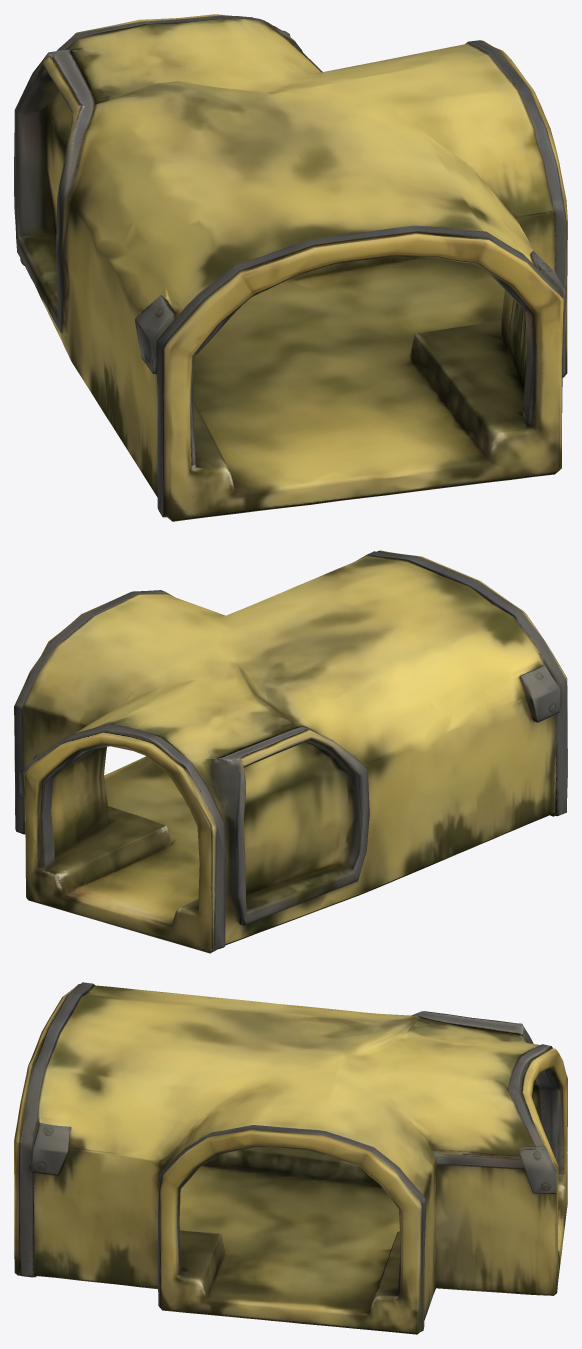
Rendered from tripo_convert_259a5023-aace-451d-a74d-93684883f777.glb.
3 renders of one model, top to bottom at view 1: azimuth 30°, elevation 25°; view 2: azimuth 150°, elevation 25°; view 3: azimuth 270°, elevation 25°, orthographic. The views are drawn at different scales.
Parts seen in each view (by area): view 1: tripo_node_259a5023-aace-451d-a74d-93684883f777; view 2: tripo_node_259a5023-aace-451d-a74d-93684883f777; view 3: tripo_node_259a5023-aace-451d-a74d-93684883f777.
Boxes of the visible parts, x1=… form: tripo_node_259a5023-aace-451d-a74d-93684883f777: x1=14, y1=14, x2=567, y2=521; tripo_node_259a5023-aace-451d-a74d-93684883f777: x1=14, y1=550, x2=567, y2=953; tripo_node_259a5023-aace-451d-a74d-93684883f777: x1=14, y1=982, x2=567, y2=1334.
Bounding box in the file's own units: 0.8345 × 0.4026 × 1.
Materials: 1 (1 with a texture image).
